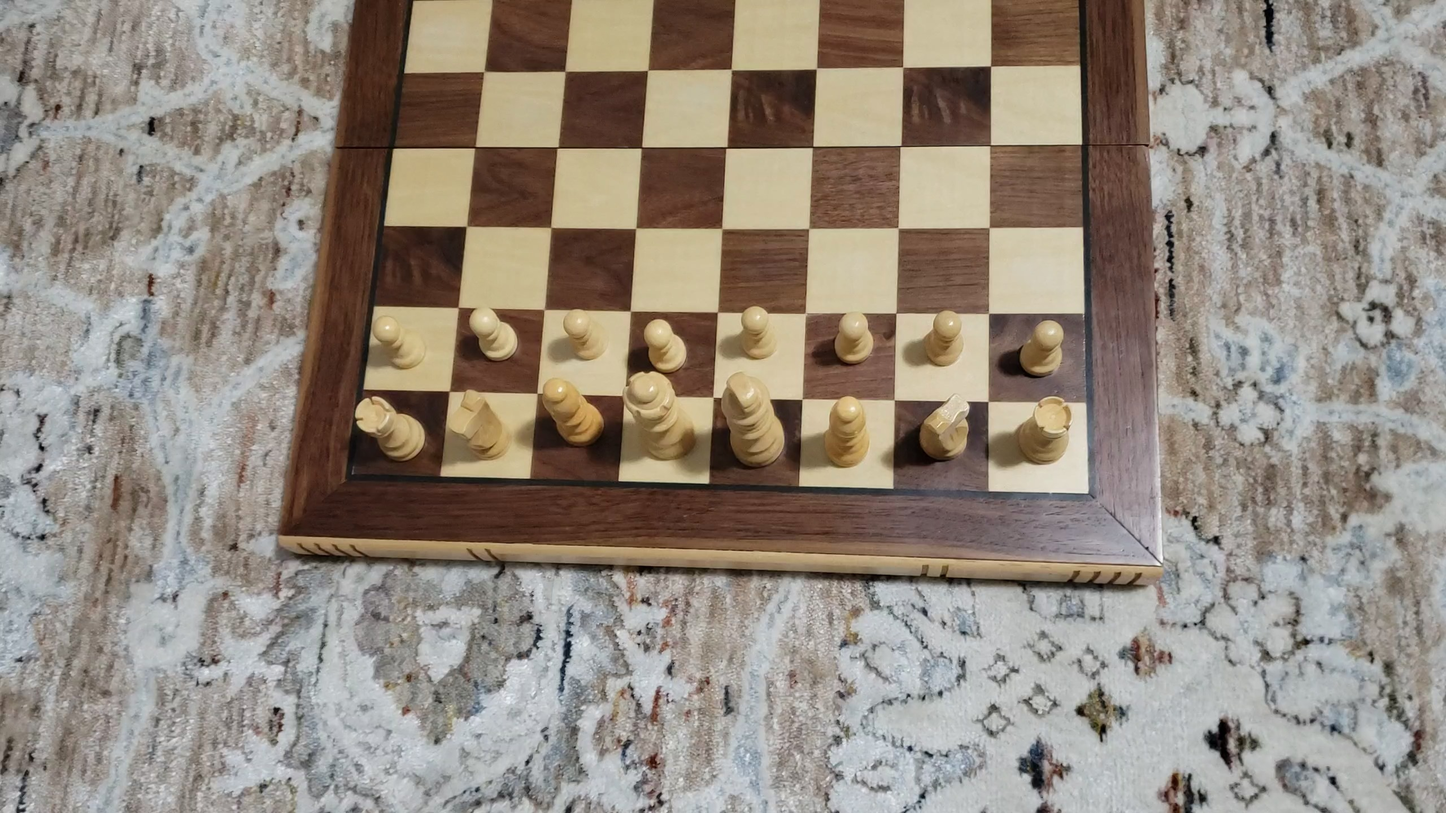white-bishop: (536, 377, 606, 449), (822, 393, 873, 471)
white-king: (718, 369, 785, 471)
white-knight: (446, 386, 509, 463), (915, 391, 973, 464)
white-pawn: (1014, 314, 1070, 383), (369, 312, 426, 372), (920, 304, 969, 371), (465, 304, 520, 363), (556, 304, 609, 364), (734, 300, 783, 364), (829, 308, 877, 367), (642, 315, 689, 373)
white-queen: (622, 371, 698, 464)
white-rook: (354, 394, 427, 464), (1013, 391, 1078, 468)
